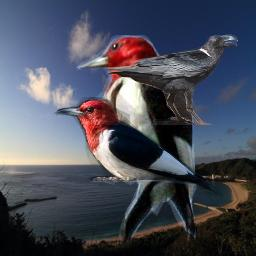Crow: (102, 33, 238, 125)
Woodpecker: (75, 35, 199, 242), (53, 97, 223, 199)
